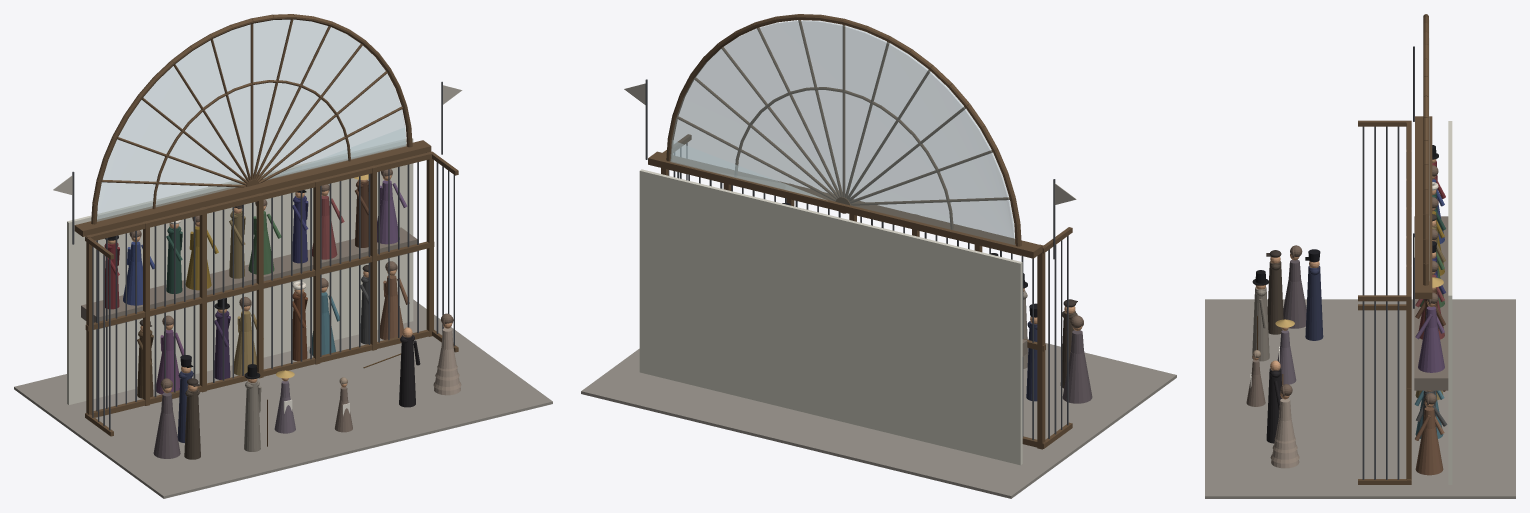
The model's file is scan-fig50-happy-family-muse.glb.
3 views of the same model, side by side, from view 1: azimuth 30°, elevation 25°; view 2: azimuth 150°, elevation 25°; view 3: azimuth 270°, elevation 25° (orthographic). The views are drawn at different scales.
Parts seen in each view (by area): view 1: ground, fan_glass, cage_back, fan_sill, dance_step, cage_rail.002, cage_rail.001, cage_rail, cage_post.004, cage_post.002, cage_post.003, cage_post.006 (+20 smaller); view 2: cage_back, fan_glass, ground, fan_sill, cage_post, skirt.009, fan_spoke.006, coat.009; view 3: ground, fan_sill, dance_step, cage_back, coat.009, cage_post.006, skirt.008, coat.010, skirt.004, skirt.009, coat.011, skirt.010 (+11 smaller).
Part boxes in pixels (x1,y1,x2,y2): ground: [14, 299, 552, 498]; fan_glass: [97, 19, 406, 221]; cage_back: [67, 138, 413, 404]; fan_sill: [74, 140, 431, 236]; dance_step: [81, 227, 417, 328]; cage_rail.002: [85, 151, 434, 240]; cage_rail.001: [85, 241, 434, 331]; cage_rail: [85, 330, 429, 417]; cage_post.004: [313, 179, 320, 364]; cage_post.002: [199, 207, 206, 392]; cage_post.003: [256, 193, 263, 378]; cage_post.006: [426, 151, 433, 336]; cage_back: [639, 169, 1022, 465]; fan_glass: [670, 20, 1015, 244]; ground: [581, 338, 1176, 498]; fan_sill: [648, 151, 1042, 258]; cage_post: [1037, 244, 1045, 449]; skirt.009: [1062, 351, 1092, 403]; fan_spoke.006: [842, 25, 845, 197]; coat.009: [1026, 321, 1037, 401]; ground: [1205, 299, 1515, 498]; fan_sill: [1415, 116, 1432, 298]; dance_step: [1414, 216, 1448, 390]; cage_back: [1448, 121, 1452, 484]; coat.009: [1305, 266, 1323, 340]; cage_post.006: [1406, 293, 1411, 479]; skirt.008: [1415, 427, 1443, 475]; coat.010: [1267, 261, 1283, 334]; skirt.004: [1418, 325, 1444, 372]; skirt.009: [1283, 280, 1306, 328]; coat.011: [1252, 287, 1269, 361]; skirt.010: [1271, 418, 1299, 468].
Bounding box in the file's own units: 10.1 × 8.37 × 6.4.
